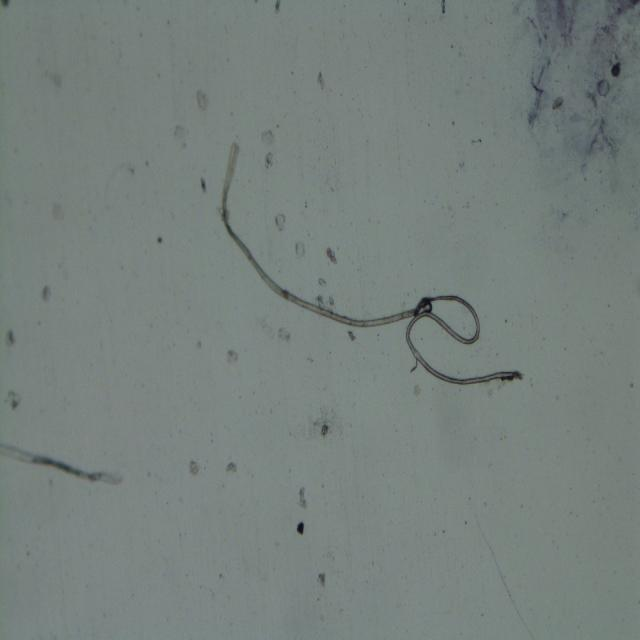Background material: (304, 409, 342, 442), (316, 269, 340, 311), (0, 386, 26, 416), (276, 326, 296, 348), (192, 84, 208, 111), (1, 326, 19, 349), (314, 64, 331, 87), (223, 346, 241, 367), (296, 488, 310, 512), (185, 459, 203, 477), (343, 322, 357, 345), (272, 211, 286, 233), (148, 231, 166, 248), (39, 284, 54, 304), (316, 568, 329, 589), (293, 240, 307, 258), (199, 167, 208, 194), (325, 246, 337, 266), (260, 129, 274, 144), (295, 520, 306, 538), (224, 460, 238, 474), (263, 152, 275, 166)
Cellulose filter fibre: (0, 441, 123, 486)
Microfibre: (221, 144, 519, 386)
Pen: (513, 0, 640, 169)
